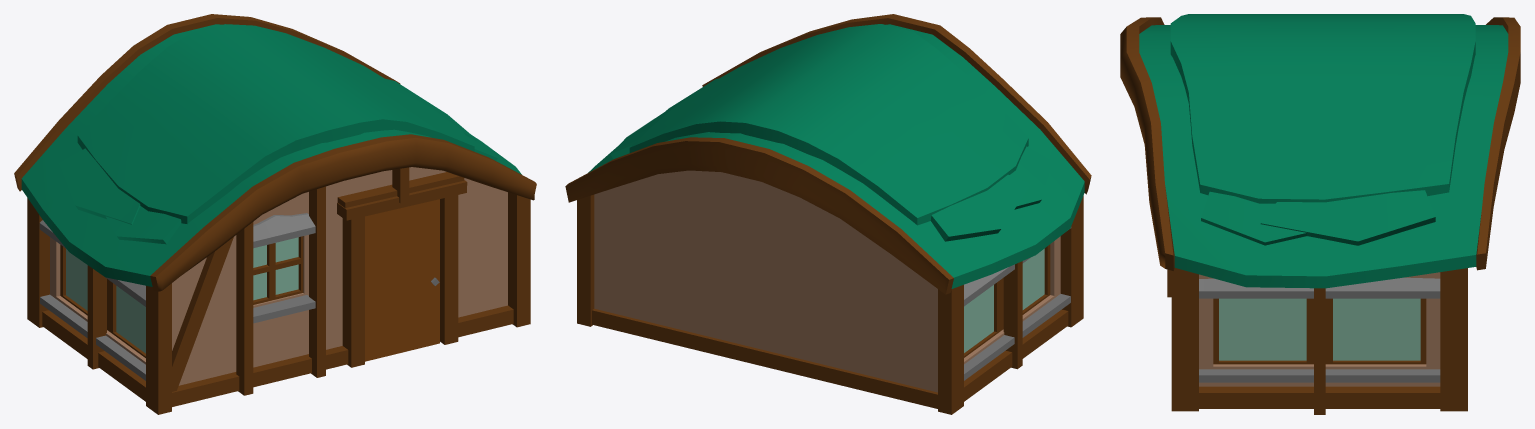
Rendered from Mesh_House_Harbour_Smol.fbx.
3 renders of one model, left to right at view 1: azimuth 30°, elevation 25°; view 2: azimuth 150°, elevation 25°; view 3: azimuth 270°, elevation 25°, orthographic. The views are drawn at different scales.
Visible parts, largest first — view 1: House_Harbour_Smol; view 2: House_Harbour_Smol; view 3: House_Harbour_Smol.
Part boxes in pixels (<box>): House_Harbour_Smol: <box>14,14,536,414</box>; House_Harbour_Smol: <box>565,14,1091,414</box>; House_Harbour_Smol: <box>1120,14,1520,414</box>.
Bounding box in the file's own units: 671 × 379 × 498.
1 material, 1 textured.
